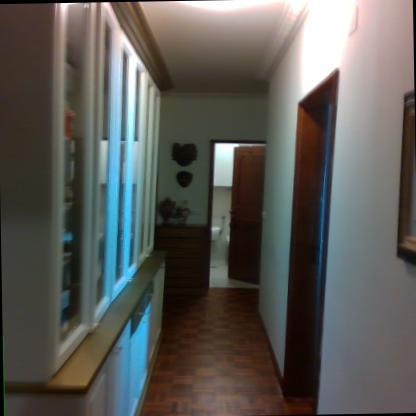semi: (202, 132, 277, 302)
